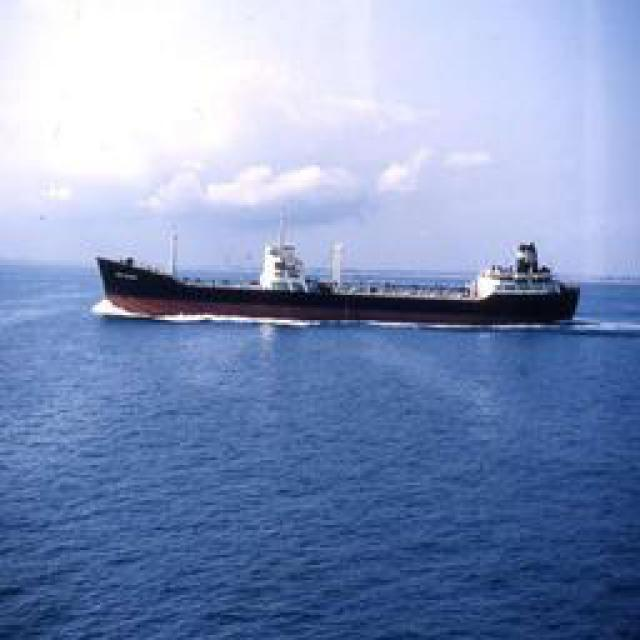Ship: (101, 240, 576, 325)
